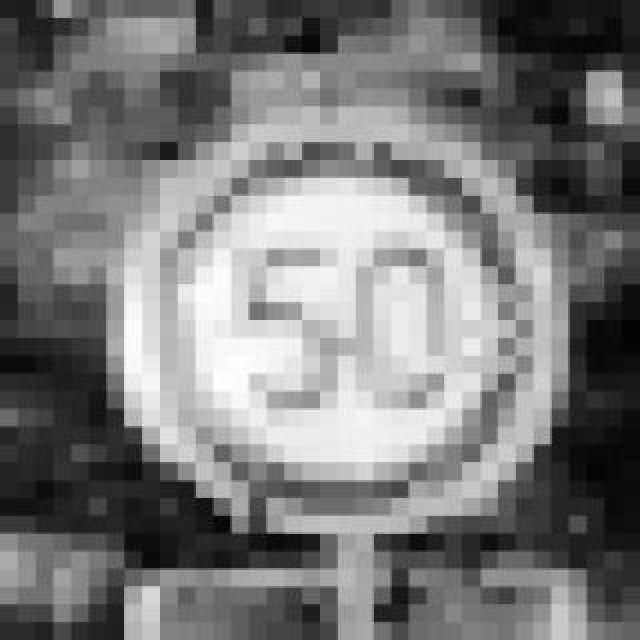50 kph: (72, 72, 552, 534)
